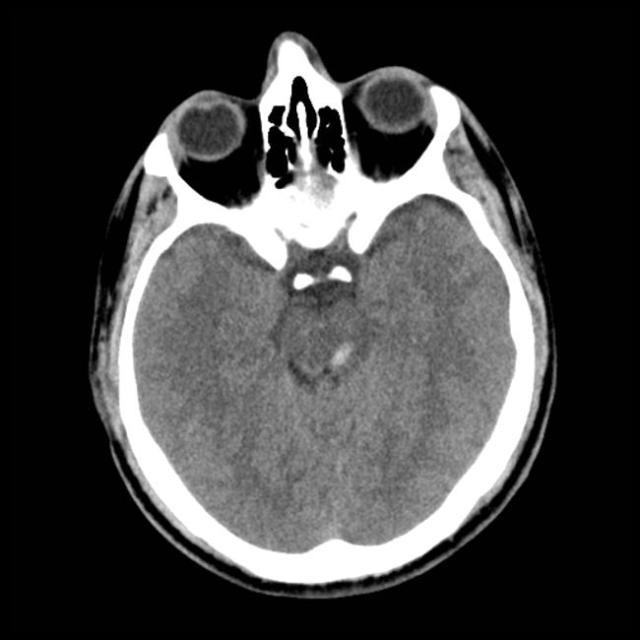lesion: (85, 29, 559, 594)
